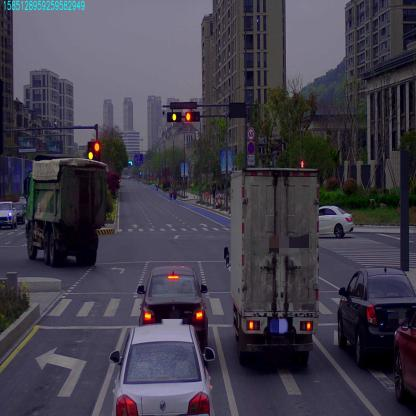traffic-light: (186, 112, 200, 122), (167, 112, 180, 122)
